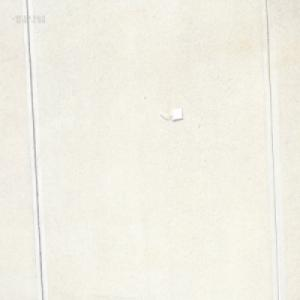LuggageTag: (159, 106, 183, 123)
